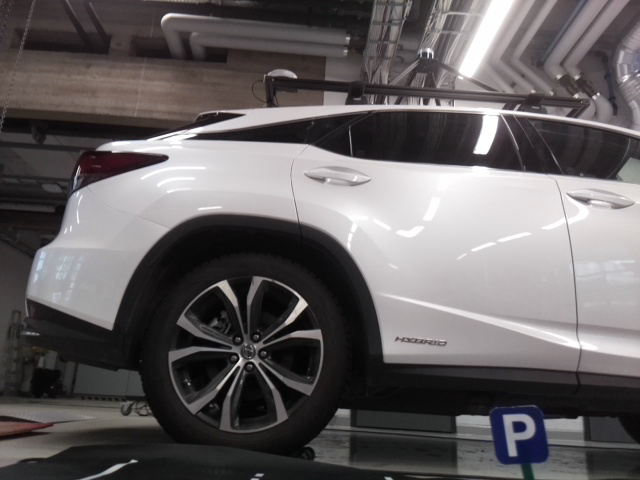Parking: (487, 407, 550, 462)
